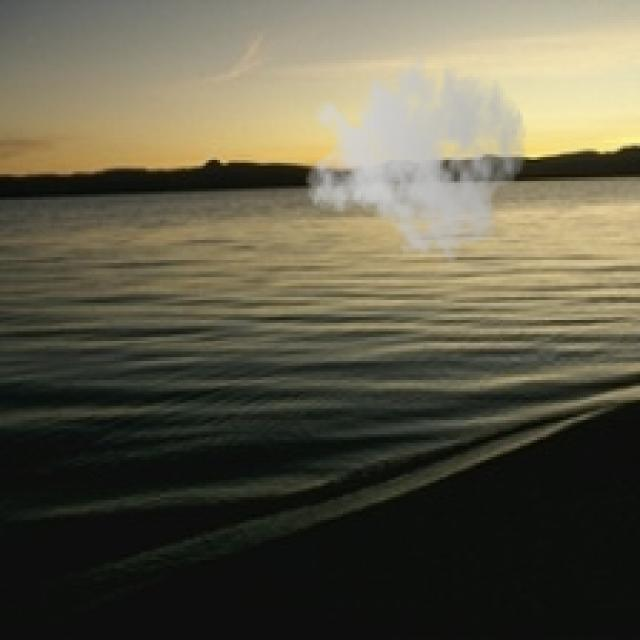smoke: (303, 37, 528, 266)
